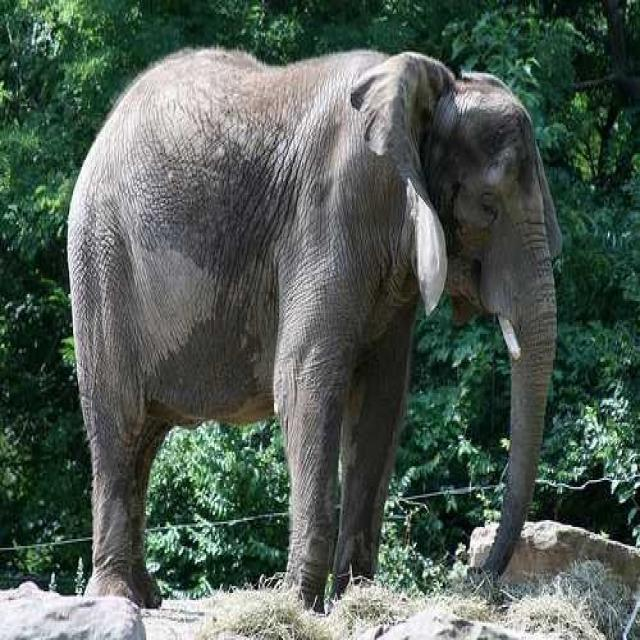Elephant: (65, 44, 563, 616)
